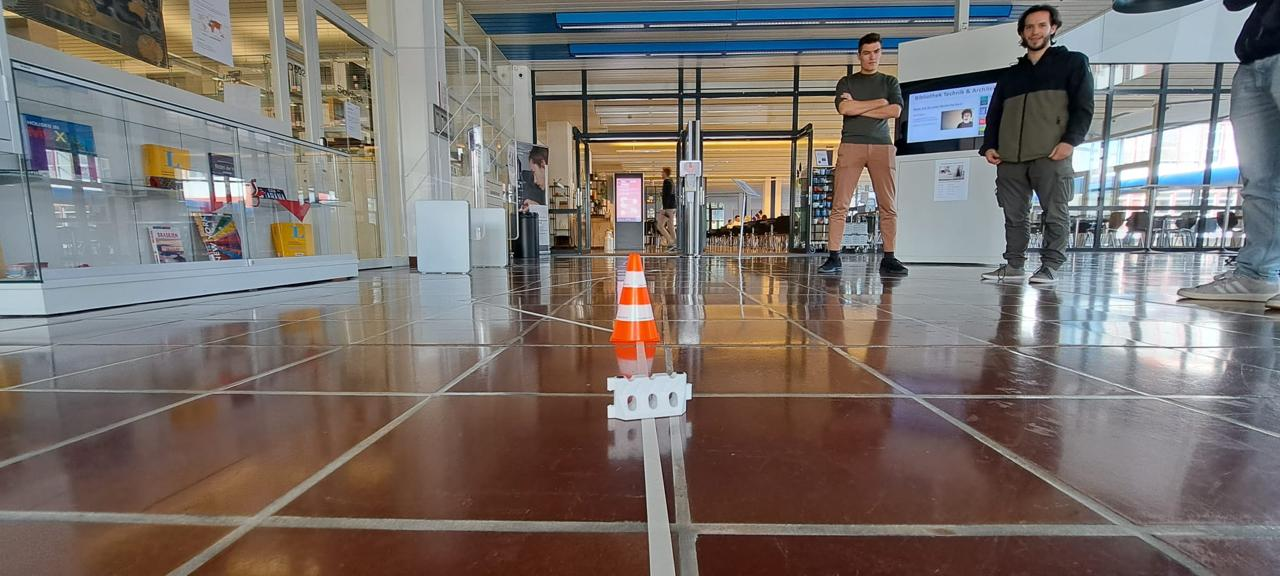barrier: (607, 371, 692, 421)
dot: (462, 298, 476, 300)
line: (635, 340, 675, 574), (473, 300, 612, 332), (475, 275, 615, 298)
pylons: (612, 253, 660, 340)
